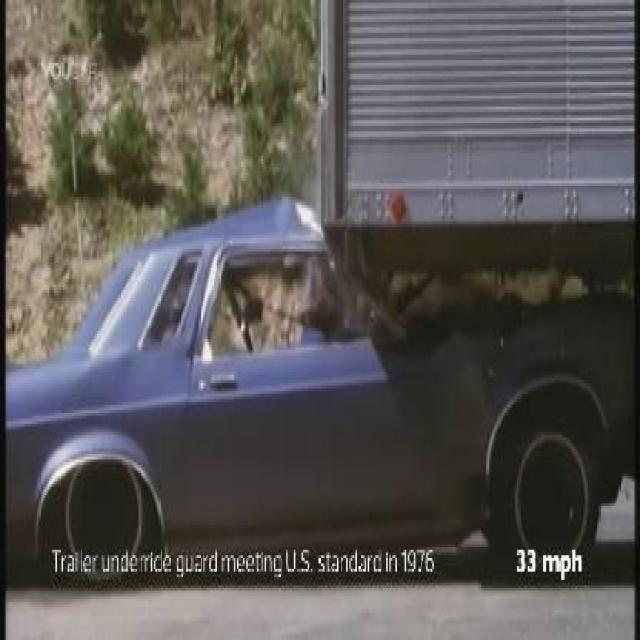accident: (4, 0, 636, 569)
